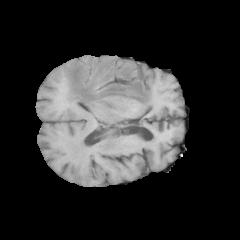glioma: (63, 61, 155, 123)
